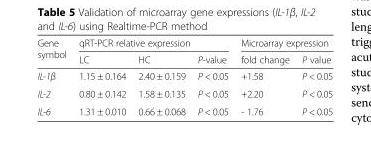table: (36, 36, 332, 116)
table column: (234, 36, 295, 116), (72, 36, 131, 116), (131, 36, 190, 116), (190, 36, 234, 116), (295, 36, 332, 116), (36, 36, 72, 116)
table column header: (36, 36, 332, 66)
table row: (36, 66, 332, 84), (36, 84, 332, 102), (36, 50, 332, 66), (36, 36, 332, 50), (36, 102, 332, 116)
table spanning cell: (72, 36, 234, 50), (234, 36, 332, 50), (36, 36, 72, 66)
